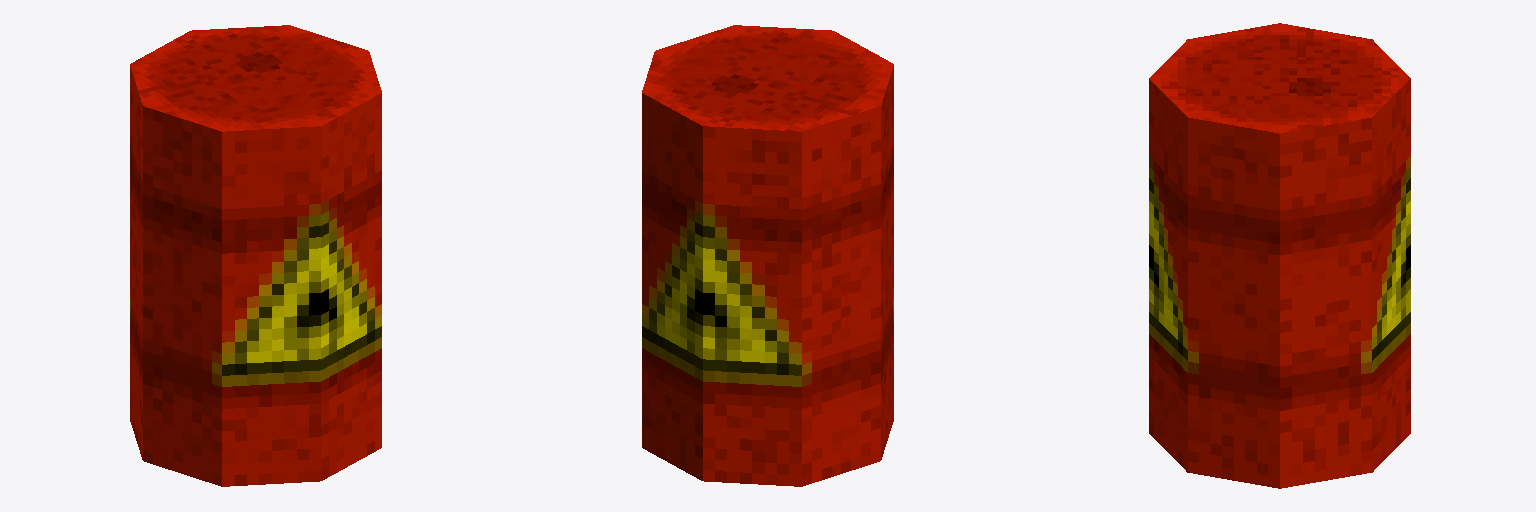
3 views of the same model, side by side, from view 1: azimuth 30°, elevation 25°; view 2: azimuth 150°, elevation 25°; view 3: azimuth 270°, elevation 25° (orthographic).
Parts seen in each view (by area): view 1: OilDrum; view 2: OilDrum; view 3: OilDrum.
Part boxes in pixels (x1,y1,x2,y2): OilDrum: (130,25,381,486); OilDrum: (642,25,893,486); OilDrum: (1149,23,1410,488).
Bounding box in the file's own units: 0.292 × 0.438 × 0.292.
1 materials, 1 textured.